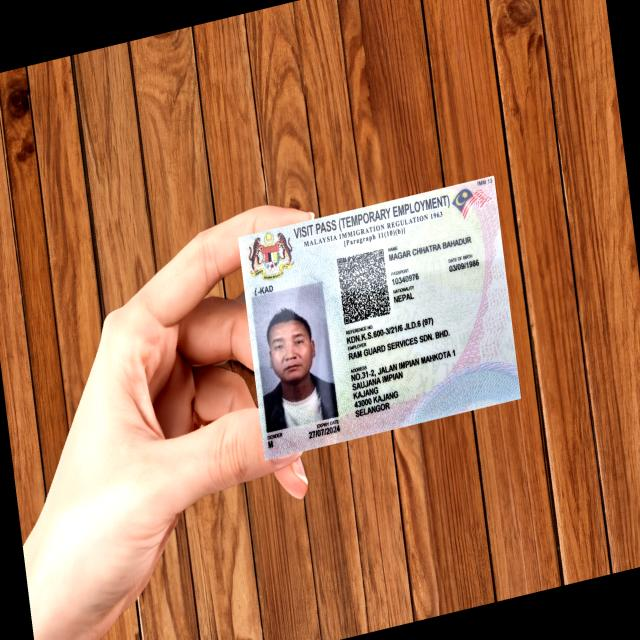ikad-temp: (238, 174, 522, 461)
